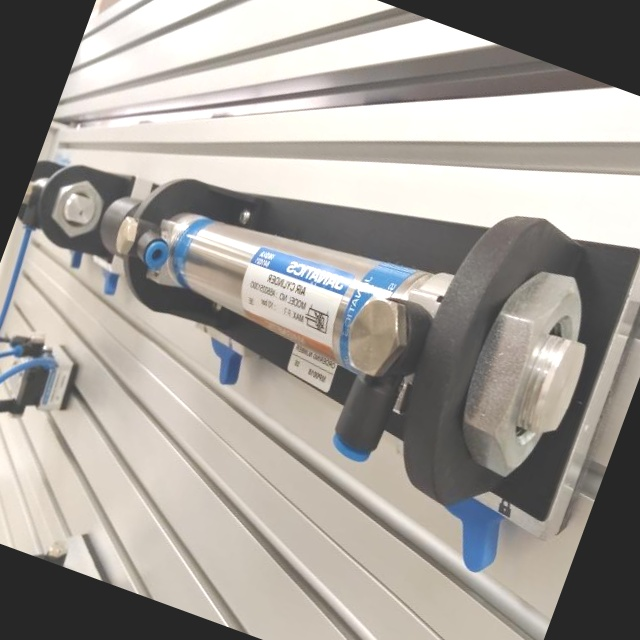double acting pneumatic cylinder: (24, 36, 640, 607)
